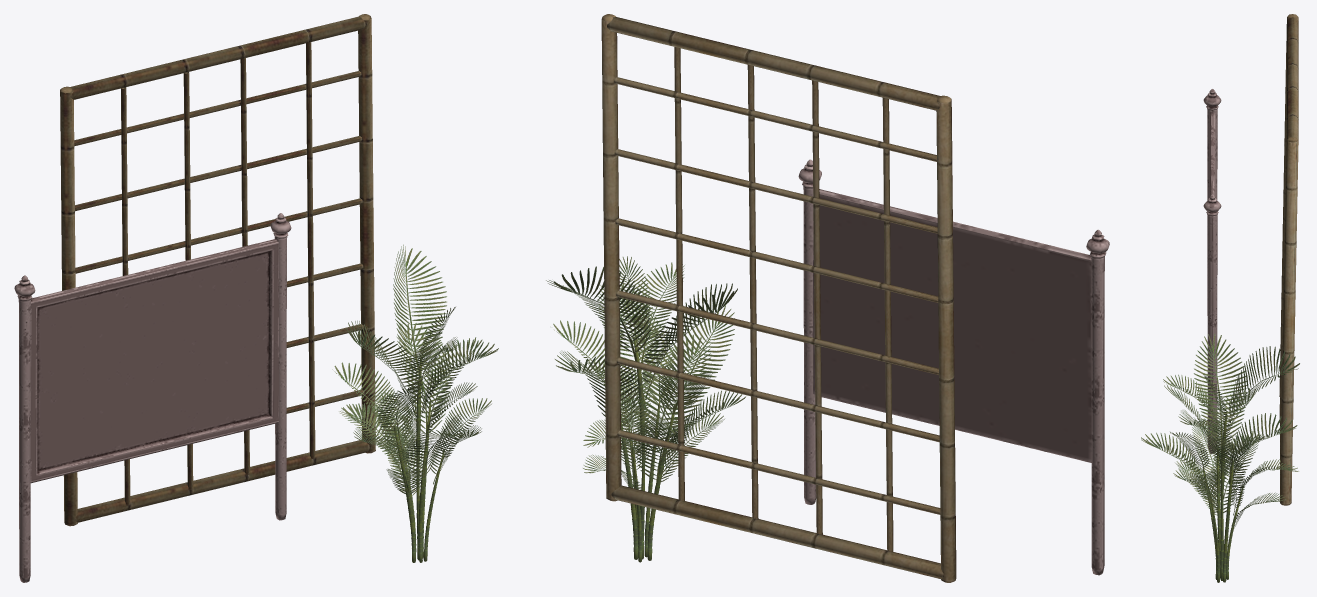
The model's file is house4.glb.
3 renders of one model, left to right at view 1: azimuth 30°, elevation 25°; view 2: azimuth 150°, elevation 25°; view 3: azimuth 270°, elevation 25°, orthographic. The views are drawn at different scales.
Visible parts, largest first — view 1: Object_18; view 2: Object_18; view 3: Object_18.
Part boxes in pixels (<box>): Object_18: <box>14,14,498,582</box>; Object_18: <box>546,14,1109,582</box>; Object_18: <box>1141,14,1299,582</box>.
Size of the model in its own units: 4.2 by 4.3 by 1.47.
4 materials, 4 textured.
